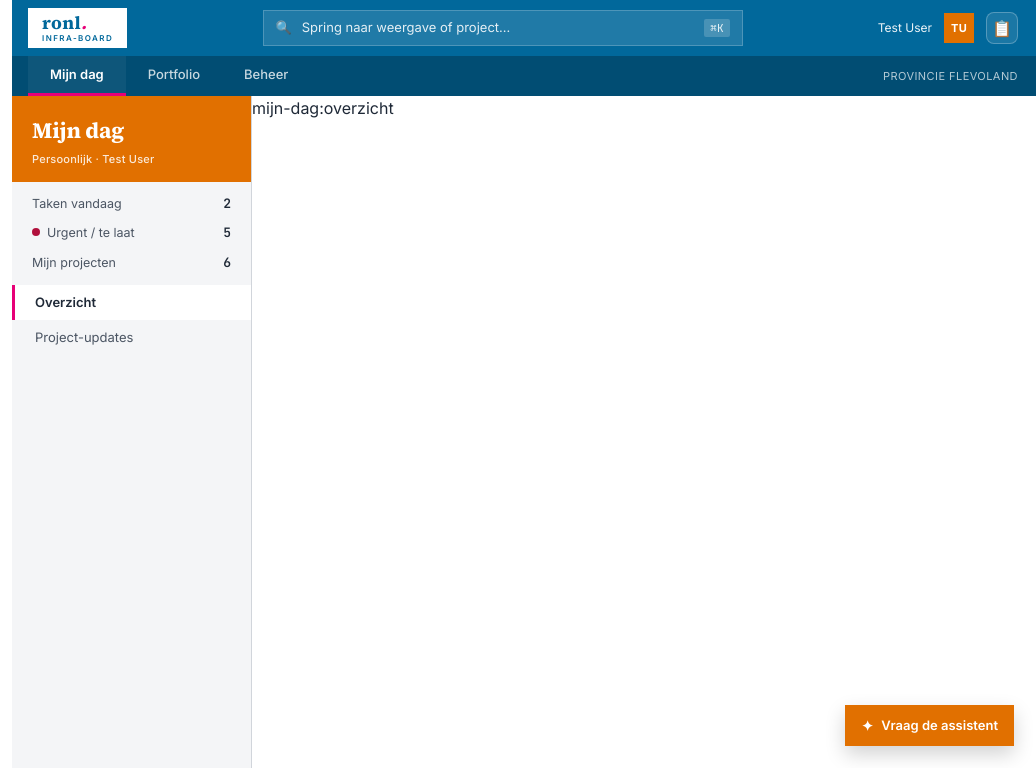
Test case: InfraBoardDashboard › Beheer rail shows the faseladder subtitle and a deployed-phase item with no muted class
Click the button "Beheer". click: (266, 76)
box: [222,56,310,96]
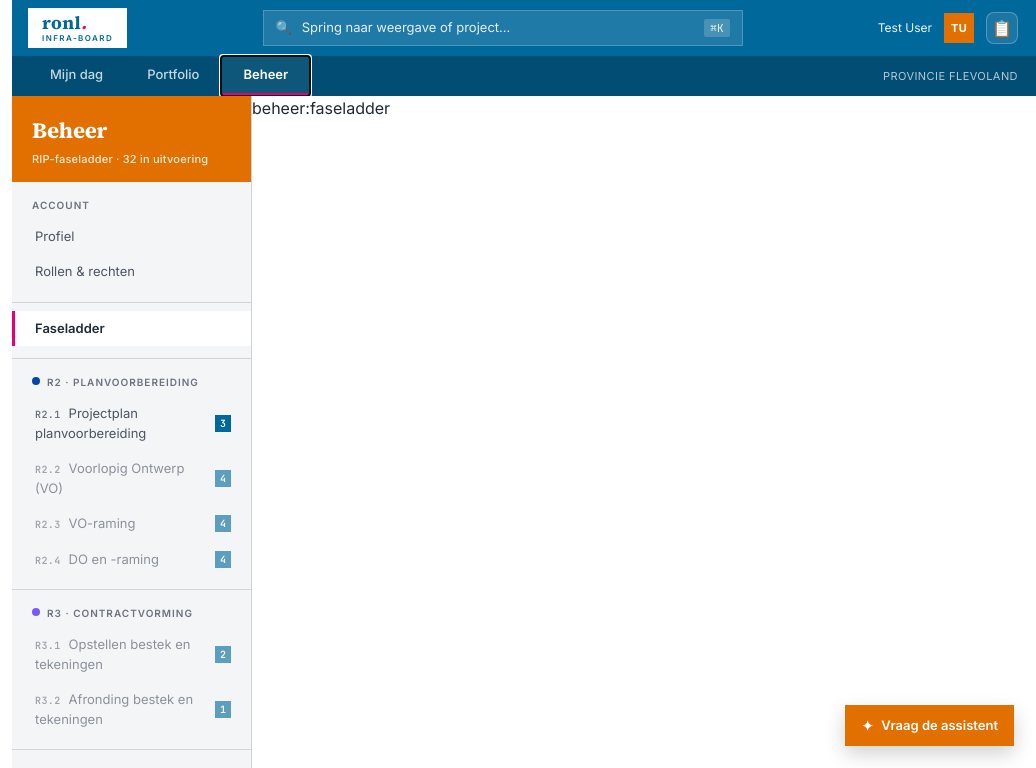
Result: the text "RIP-faseladder · 32 in uitvoering" is shown at [32,151,231,168]
